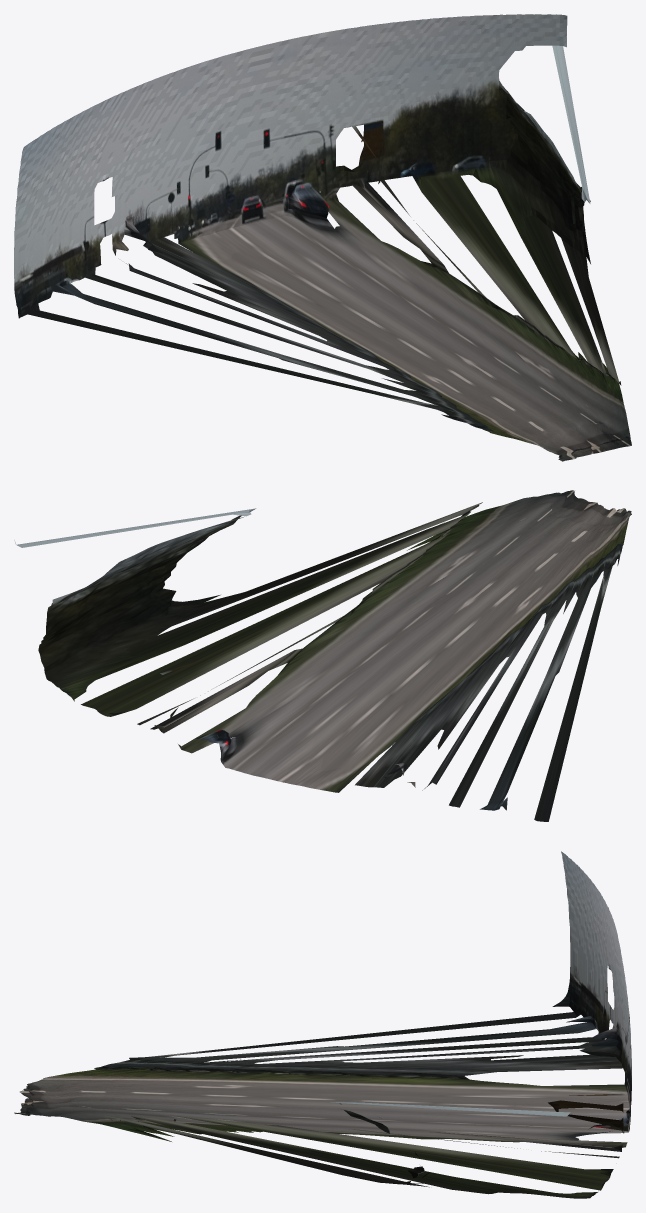
The picture shows the model from 3 angles, top to bottom: view 1: azimuth 30°, elevation 25°; view 2: azimuth 150°, elevation 25°; view 3: azimuth 270°, elevation 25°; orthographic projection. The views are drawn at different scales.
Visible parts, largest first — view 1: defaultobject; view 2: defaultobject; view 3: defaultobject.
Part boxes in pixels (left/top/right/bottom): defaultobject: left=14, top=14, right=631, bottom=461; defaultobject: left=14, top=490, right=631, bottom=821; defaultobject: left=14, top=851, right=631, bottom=1198.
Size of the model in its own units: 40.98 by 13.28 by 44.77.
1 material, 1 textured.
